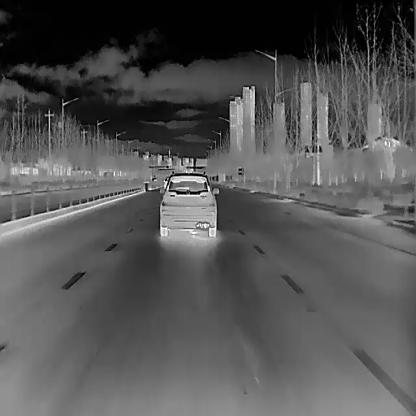car: (159, 172, 219, 237)
